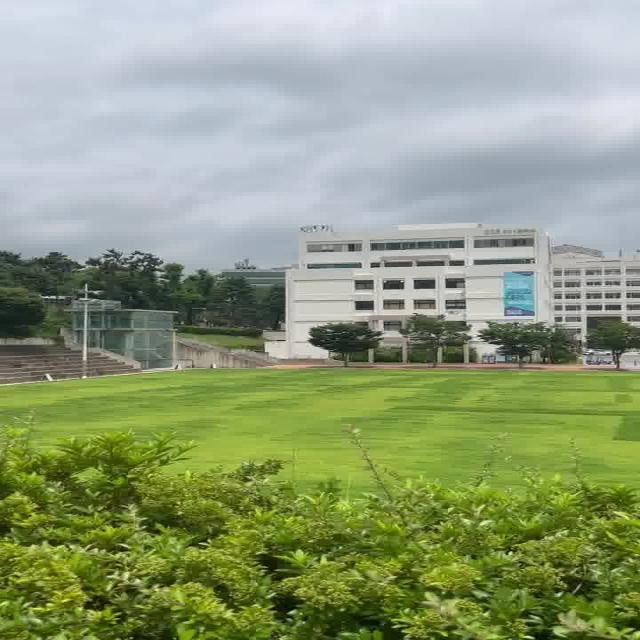building: (284, 214, 564, 323)
